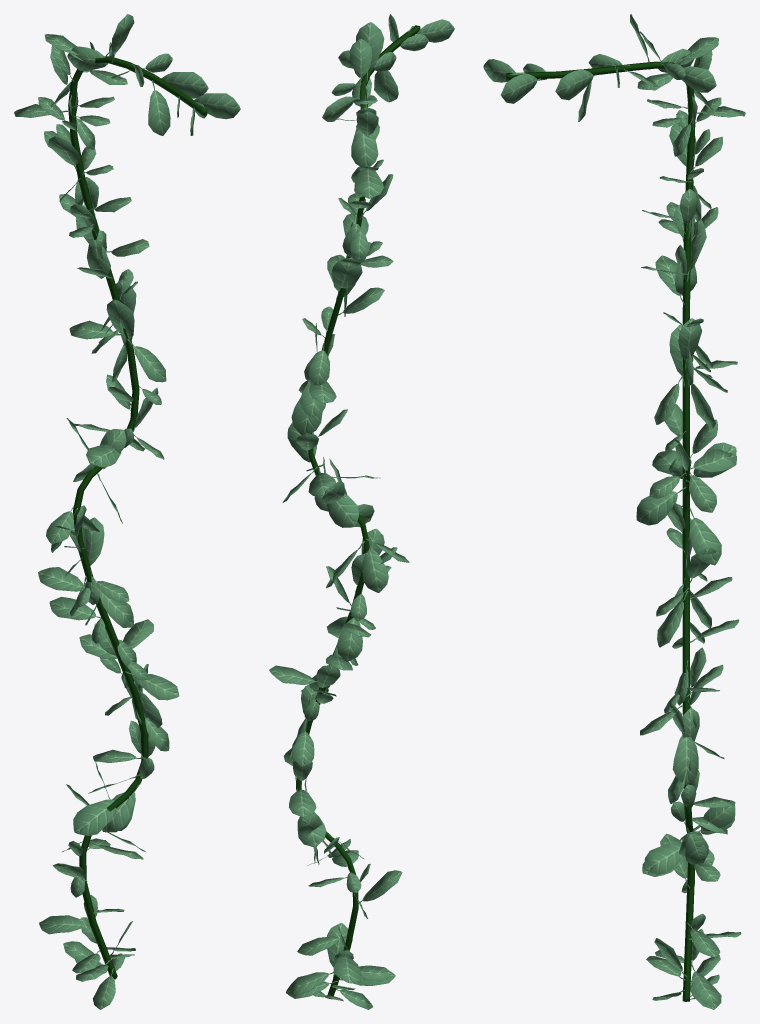
Rendered from leaf_edge.glb.
The picture shows the model from 3 angles, left to right: view 1: azimuth 30°, elevation 25°; view 2: azimuth 150°, elevation 25°; view 3: azimuth 270°, elevation 25°; orthographic projection. The views are drawn at different scales.
Visible parts, largest first — view 1: v1; view 2: v1; view 3: v1.
Part boxes in pixels (x1,y1,x2,y2): v1: [14, 14, 240, 1009]; v1: [269, 14, 454, 1009]; v1: [483, 14, 745, 1009].
Size of the model in its own units: 0.4839 by 3.68 by 0.8797.
Materials: 2 (1 with a texture image).
